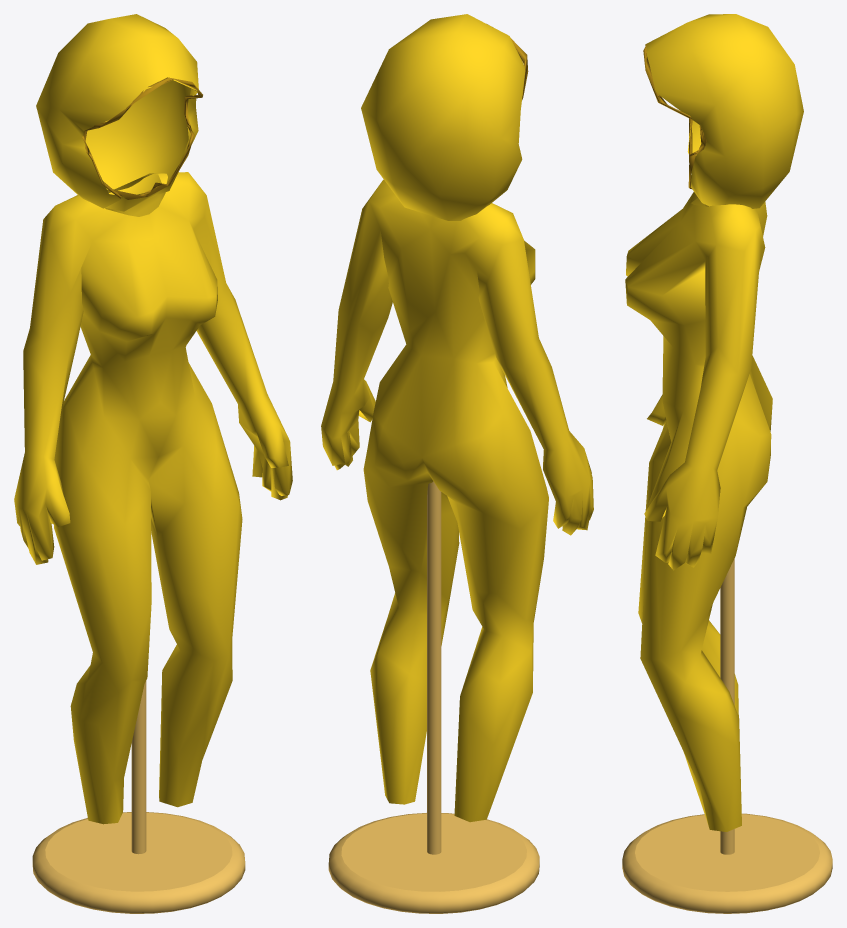
File: rain.suit.hazmat-yellow.lod1.glb
3 views of the same model, side by side, from view 1: azimuth 30°, elevation 25°; view 2: azimuth 150°, elevation 25°; view 3: azimuth 270°, elevation 25° (orthographic).
Visible parts, largest first — view 1: Foundation.Hazmat.Complete, Foundation.Hazmat.FittedHood, stand_base, stand_stem, Foundation.Hazmat.FaceBinding; view 2: Foundation.Hazmat.Complete, Foundation.Hazmat.FittedHood, stand_base, stand_stem; view 3: Foundation.Hazmat.Complete, Foundation.Hazmat.FittedHood, stand_base, stand_stem, Foundation.Hazmat.FaceBinding.
Part boxes in pixels (left/top/right/bottom): Foundation.Hazmat.Complete: left=14, top=172, right=292, bottom=824; Foundation.Hazmat.FittedHood: left=36, top=14, right=198, bottom=211; stand_base: left=32, top=812, right=245, bottom=913; stand_stem: left=131, top=681, right=146, bottom=854; Foundation.Hazmat.FaceBinding: left=82, top=77, right=202, bottom=199; Foundation.Hazmat.Complete: left=321, top=179, right=593, bottom=822; Foundation.Hazmat.FittedHood: left=361, top=14, right=525, bottom=220; stand_base: left=328, top=813, right=539, bottom=913; stand_stem: left=427, top=481, right=441, bottom=854; Foundation.Hazmat.Complete: left=625, top=192, right=772, bottom=831; Foundation.Hazmat.FittedHood: left=645, top=14, right=803, bottom=208; stand_base: left=622, top=813, right=832, bottom=913; stand_stem: left=720, top=559, right=734, bottom=854; Foundation.Hazmat.FaceBinding: left=643, top=44, right=706, bottom=188.
Size of the model in its own units: 0.2383 by 0.7497 by 0.1688.
